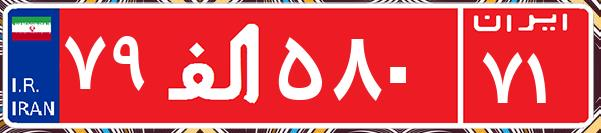0: (385, 28, 445, 110)
1: (525, 38, 570, 115)
5: (273, 28, 330, 110)
7: (57, 26, 110, 107), (475, 38, 525, 113)
8: (330, 28, 385, 110)
9: (110, 28, 158, 105)
الف: (158, 15, 273, 115)
